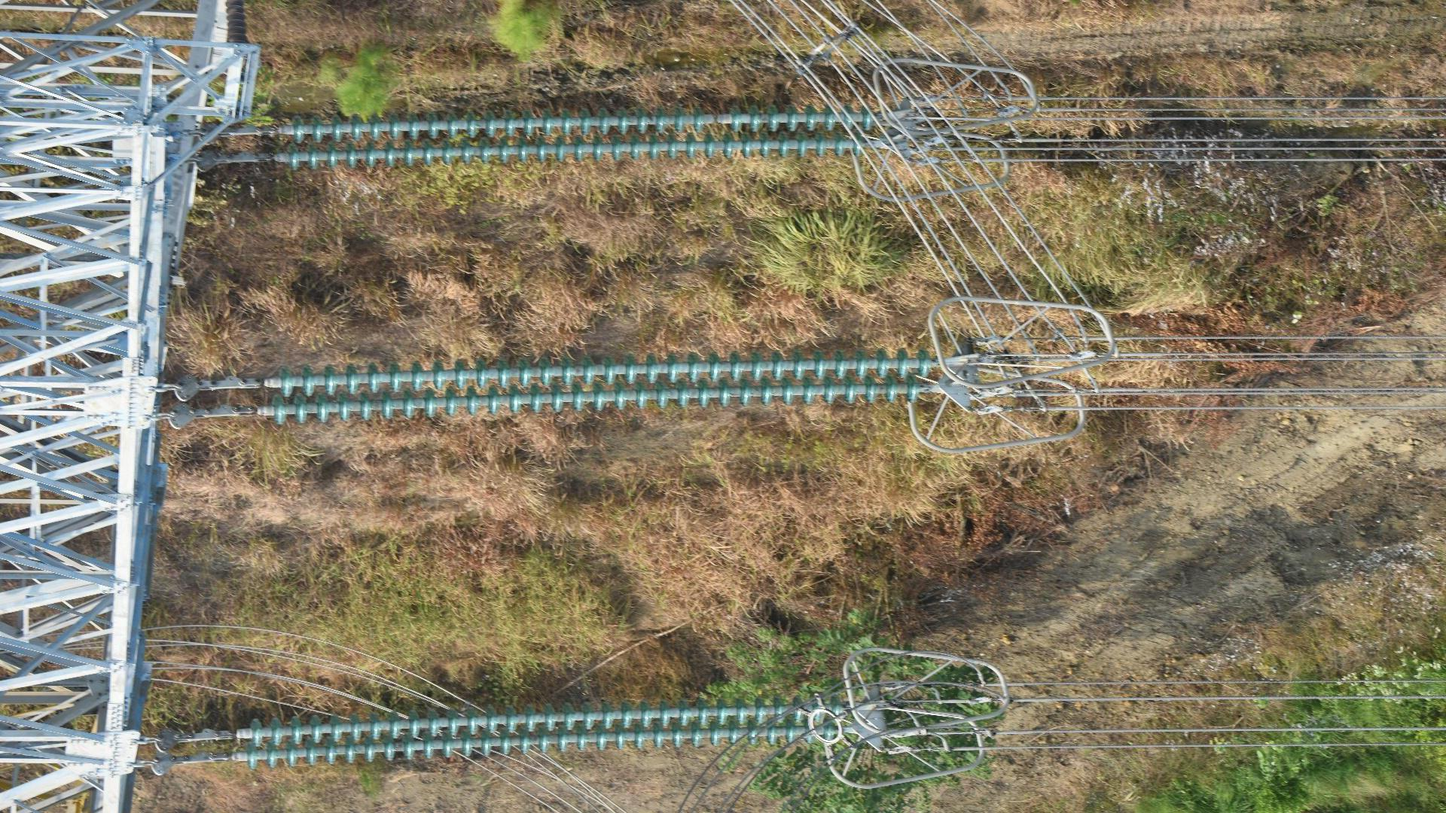insulator: (266, 343, 940, 429), (243, 692, 847, 772), (284, 99, 877, 176)
insulator_stringdrop: (692, 102, 745, 136)
